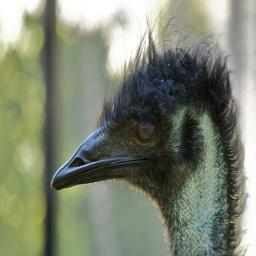bird: (128, 68, 256, 256)
